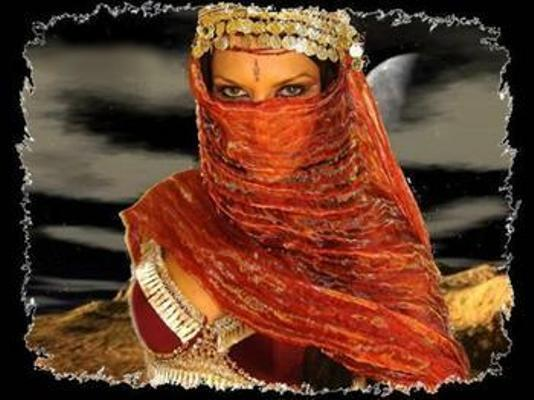OK: (212, 70, 314, 172)
